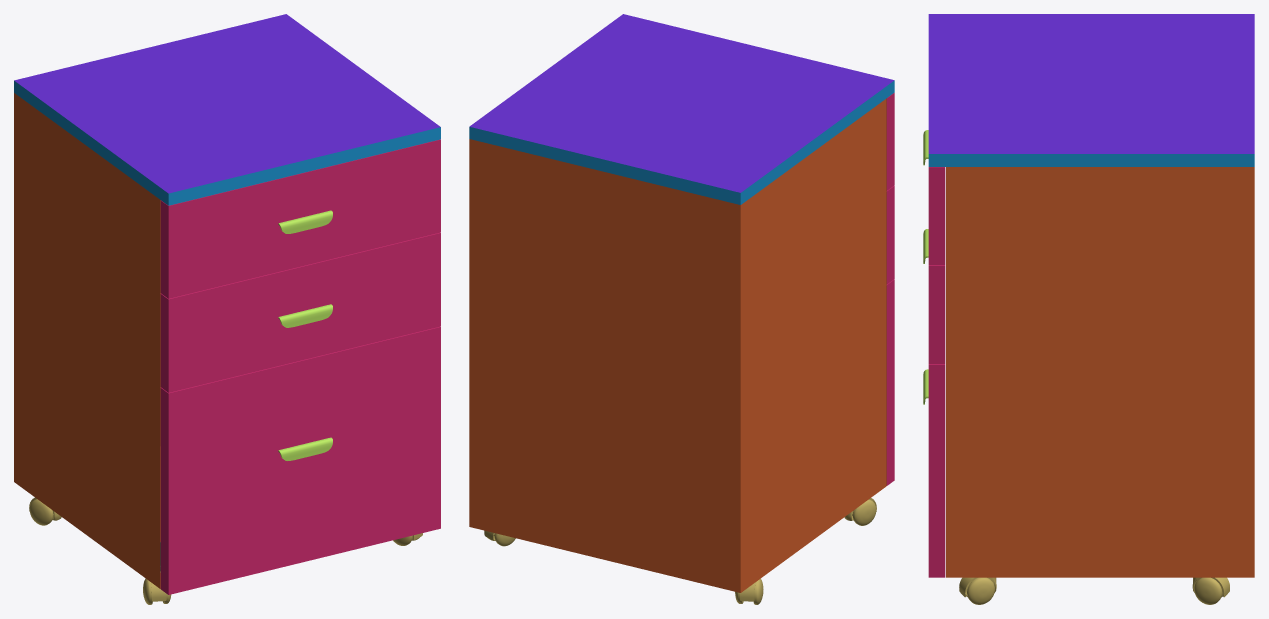
Rendered from desk_file_1.glb.
3 renders of one model, left to right at view 1: azimuth 30°, elevation 25°; view 2: azimuth 150°, elevation 25°; view 3: azimuth 270°, elevation 25°, orthographic. The views are drawn at different scales.
Parts seen in each view (by area): view 1: File Mobile White; view 2: File Mobile White; view 3: File Mobile White.
Part boxes in pixels (x1,y1,x2,y2): File Mobile White: (14, 14, 440, 604); File Mobile White: (469, 14, 894, 604); File Mobile White: (923, 14, 1254, 604).
Bounding box in the file's own units: 0.4696 × 0.7007 × 0.4645.
